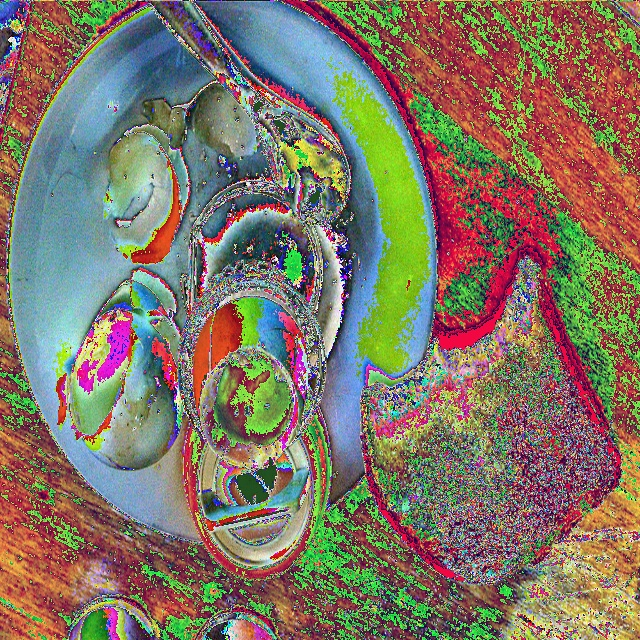background: (262, 253, 622, 585), (117, 175, 308, 470), (56, 193, 183, 471), (104, 82, 257, 264)
